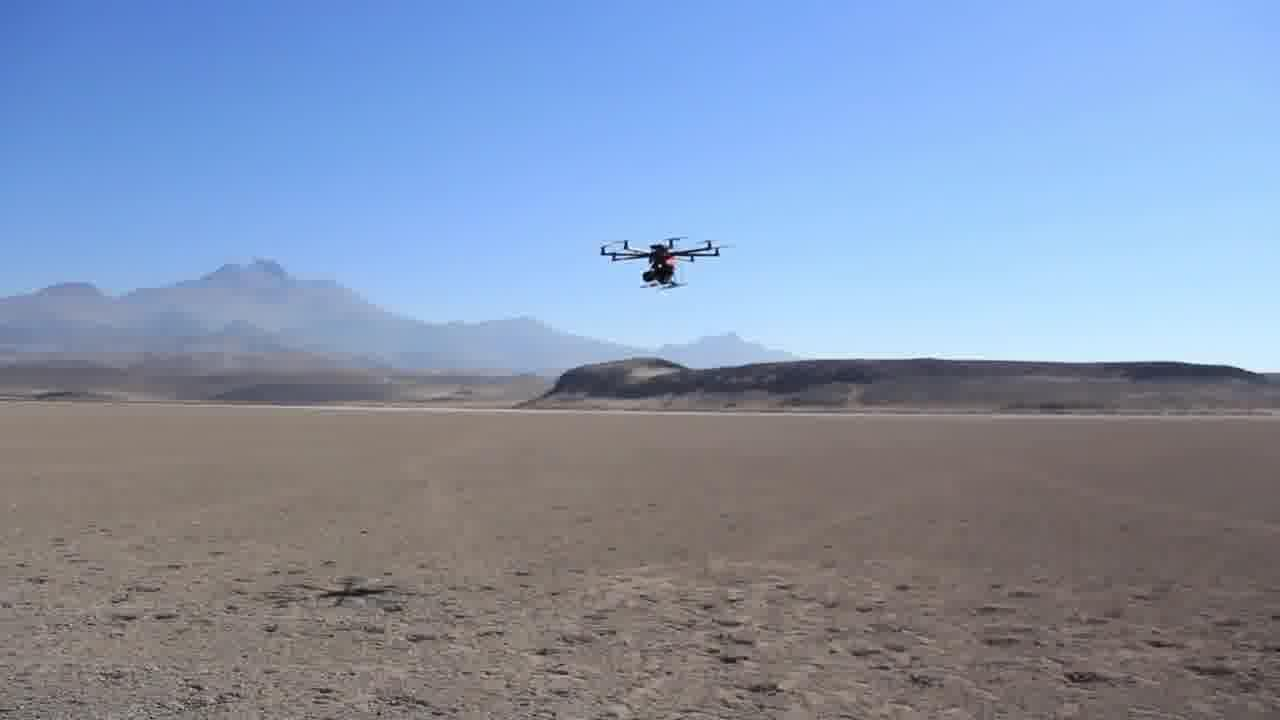drone: (578, 225, 737, 303)
